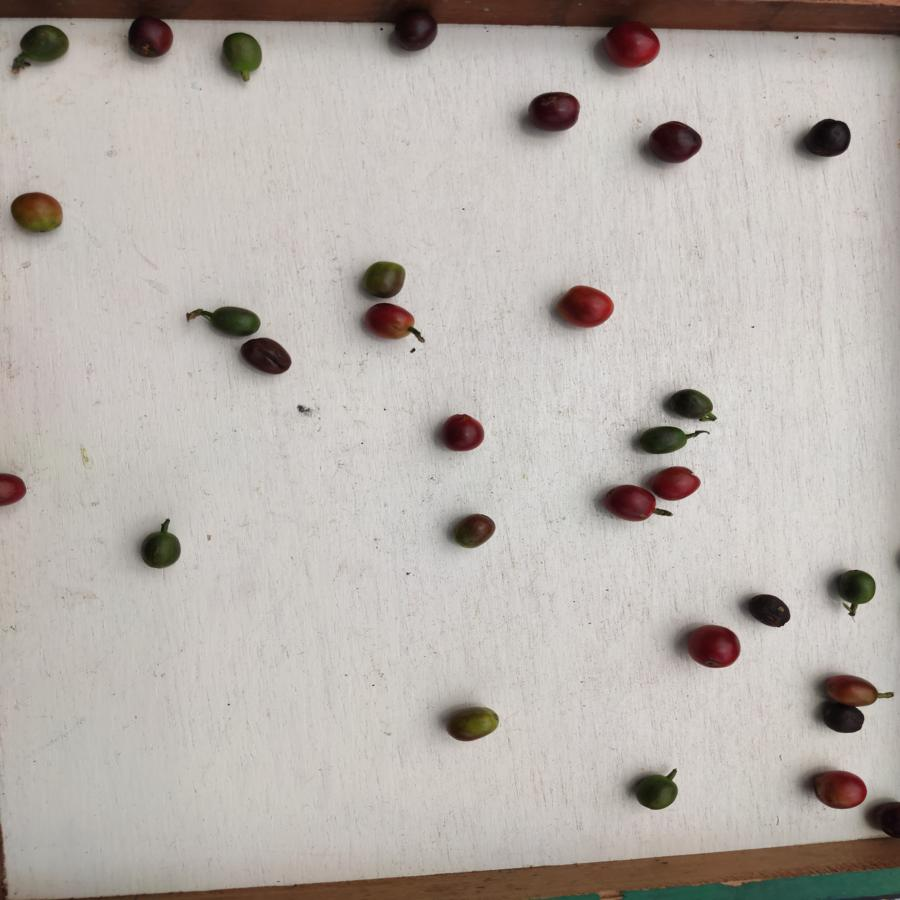Inmaduro: (18, 23, 71, 65), (220, 31, 265, 80), (205, 301, 261, 338), (137, 529, 182, 571), (666, 389, 718, 425), (835, 568, 878, 610), (633, 773, 680, 810), (638, 425, 690, 454)
Maduro: (606, 19, 661, 68), (557, 285, 615, 329), (687, 625, 741, 668), (813, 770, 868, 812), (601, 482, 655, 522), (439, 412, 487, 454), (365, 301, 415, 341), (650, 466, 701, 501), (1, 472, 31, 509)
Pinton: (8, 190, 65, 236), (447, 706, 500, 741), (824, 673, 880, 705), (362, 260, 406, 298), (452, 513, 497, 549)
Sobremaduro: (648, 121, 704, 163), (238, 336, 293, 378), (525, 91, 581, 132), (390, 6, 439, 52), (803, 116, 853, 159), (126, 17, 175, 59), (747, 591, 792, 628), (821, 702, 865, 735)
